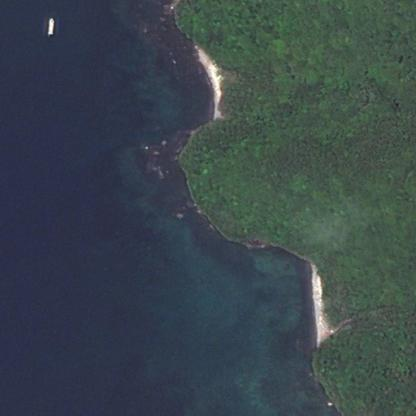ship: (40, 12, 60, 39)
